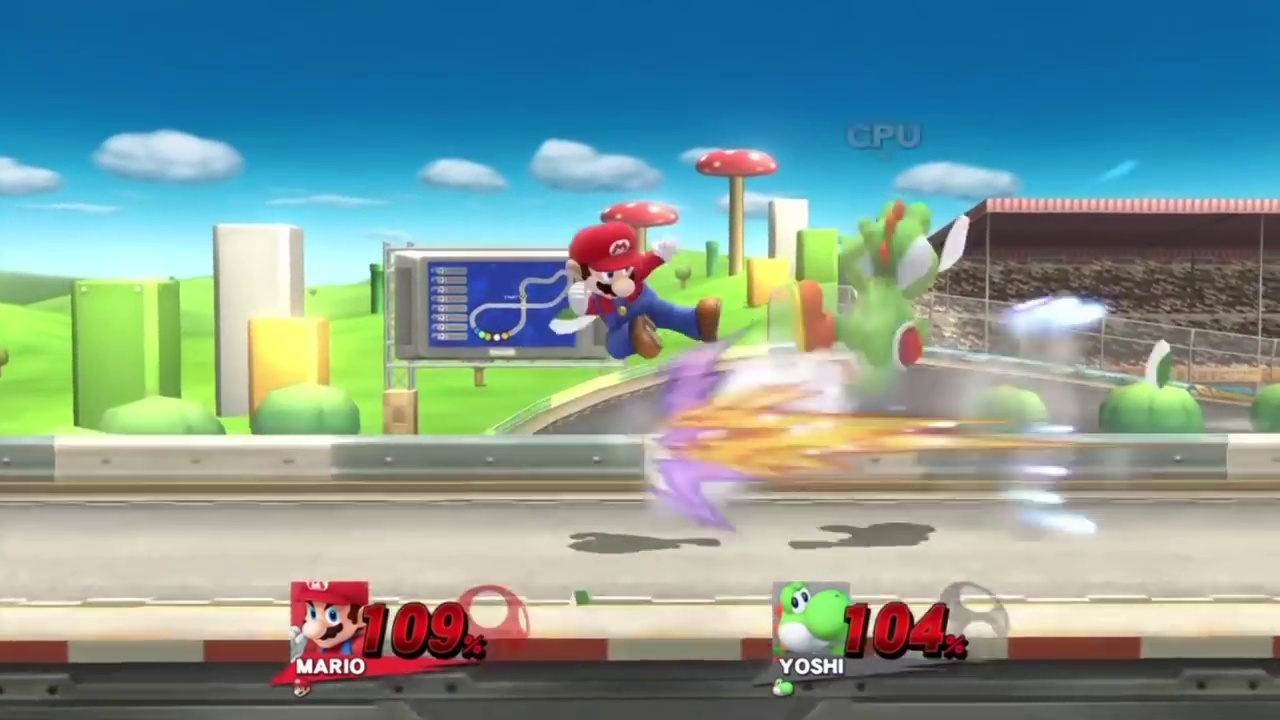Mario: (568, 225, 722, 357)
